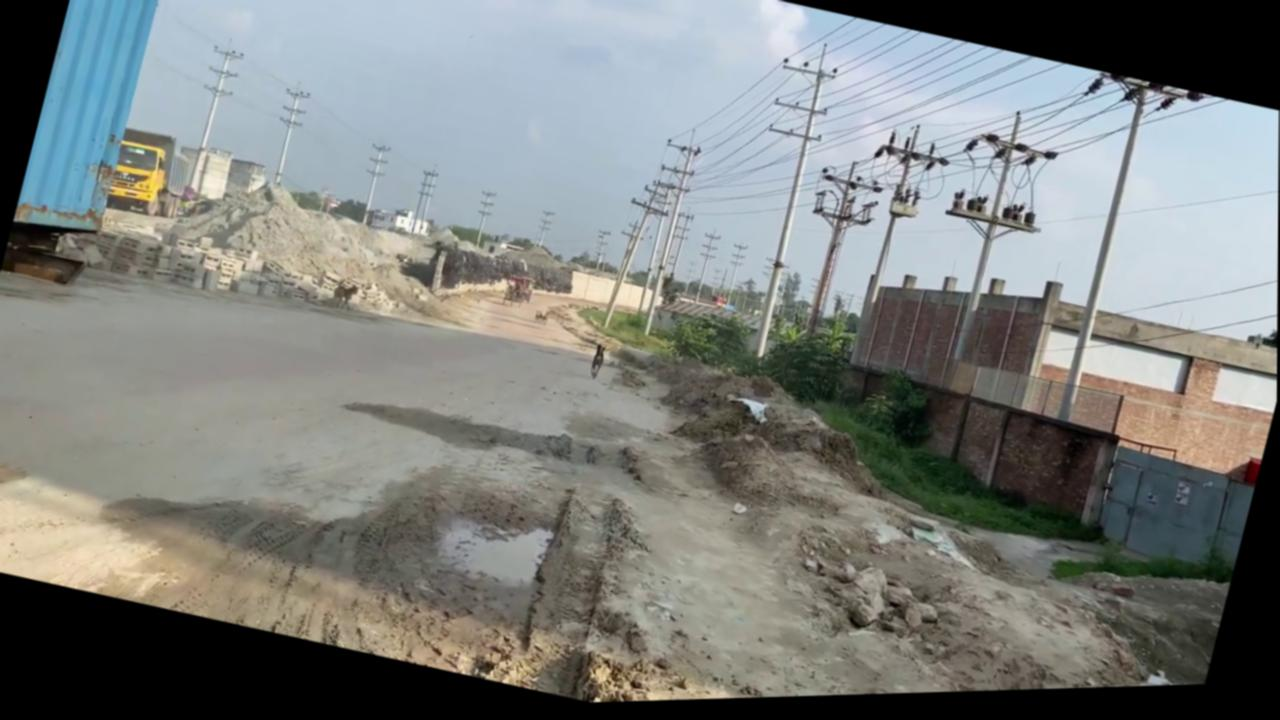Dog: (329, 281, 360, 314), (533, 313, 549, 328)
Muddy road: (264, 301, 1245, 714)
Pole: (710, 39, 846, 366), (1053, 94, 1153, 428)
Tree: (103, 124, 198, 224)
